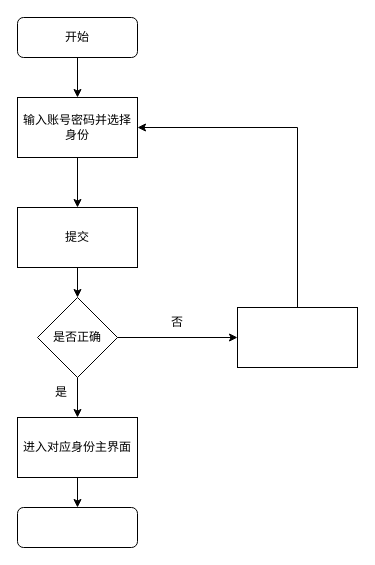
This 375x565 diagram has some shape labels left out. The shapes that lost their labels are listed below. From the top down, each one's centre as x and y in pixels, then its label:
At (297,337): "错误提示".
At (77,527): "结束".
